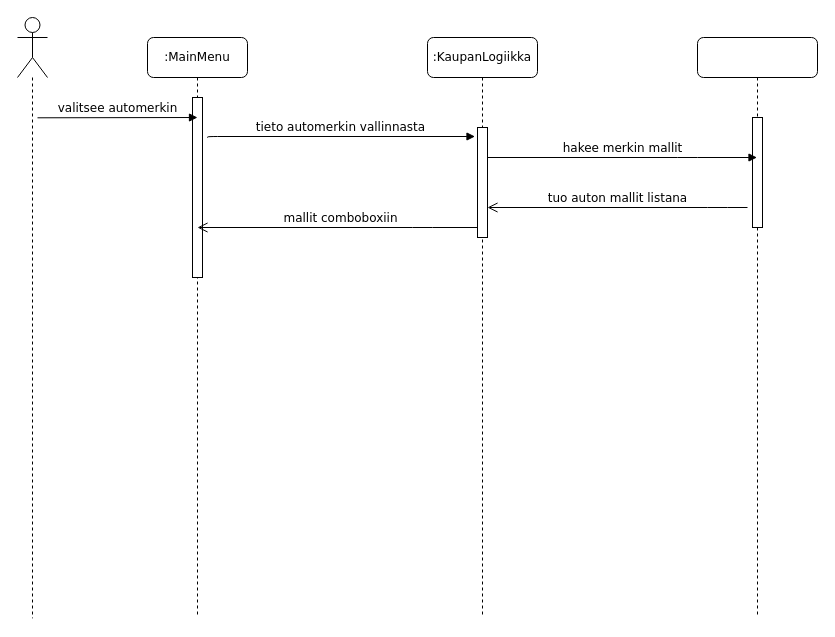
Some shapes in this 835 by 637 pixel diagram are drawn without their labels. Here are the shapes that lost their labels. From the top down, the box of each, then its label:
(16, 16, 48, 78): Actor
(696, 36, 818, 618): :DatabaseHallinta
